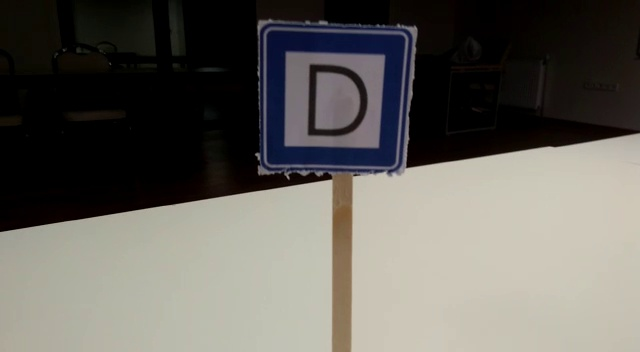durak: (261, 30, 414, 171)
